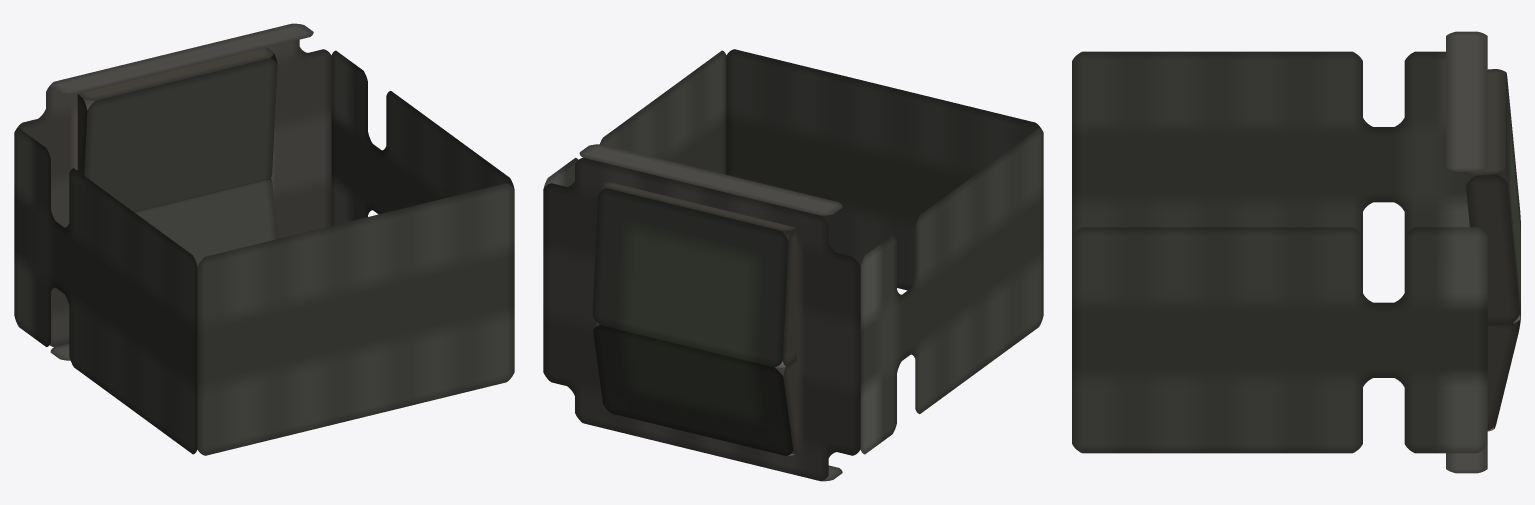
Rendered from ratnik_kneepads_p_l.obj.
The picture shows the model from 3 angles, left to right: view 1: azimuth 30°, elevation 25°; view 2: azimuth 150°, elevation 25°; view 3: azimuth 270°, elevation 25°; orthographic projection. The views are drawn at different scales.
Parts seen in each view (by area): view 1: mesh; view 2: mesh; view 3: mesh.
Boxes of the visible parts, x1=… form: mesh: x1=14, y1=23, x2=514, y2=455; mesh: x1=543, y1=49, x2=1043, y2=481; mesh: x1=1072, y1=31, x2=1520, y2=473.
Size of the model in its own units: 0.3125 by 0.25 by 0.3375.
